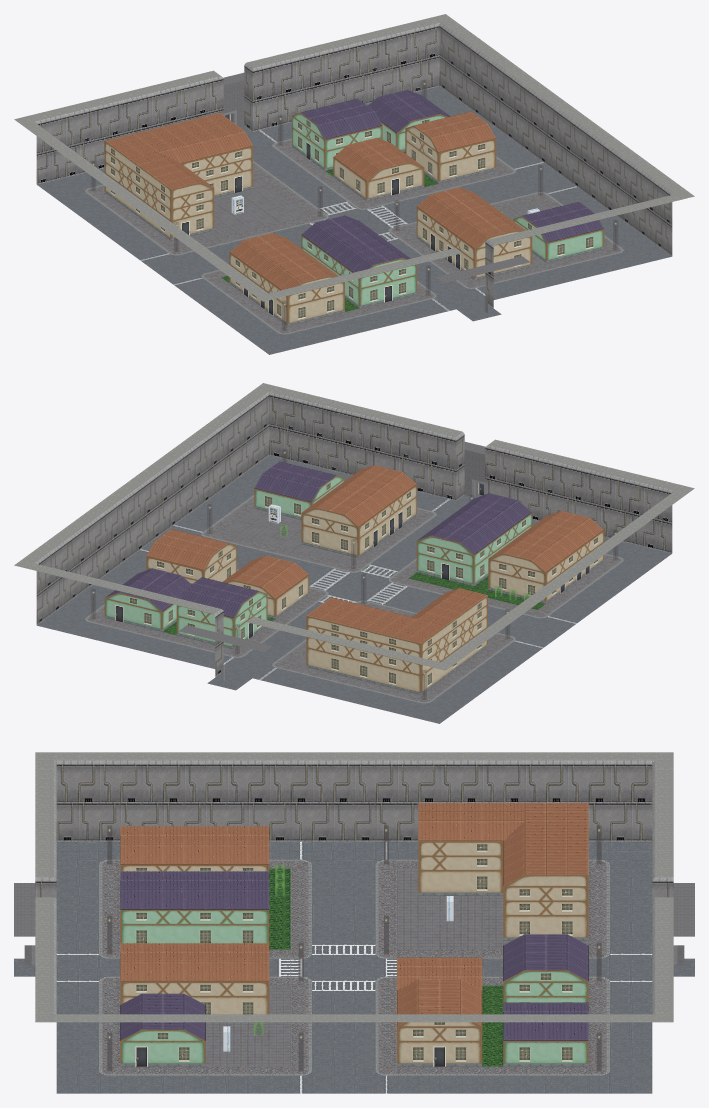
3 views of the same model, one above another, from view 1: azimuth 30°, elevation 25°; view 2: azimuth 150°, elevation 25°; view 3: azimuth 270°, elevation 25° (orthographic). The views are drawn at different scales.
Visible parts, largest first — view 1: Town_0; view 2: Town_0; view 3: Town_0.
Boxes of the visible parts, x1,y1,x2,y2 form: Town_0: (14, 14, 694, 354); Town_0: (14, 383, 694, 723); Town_0: (14, 752, 694, 1093).
Bounding box in the file's own units: 72 × 10 × 76.8.
2 materials, 2 textured.
